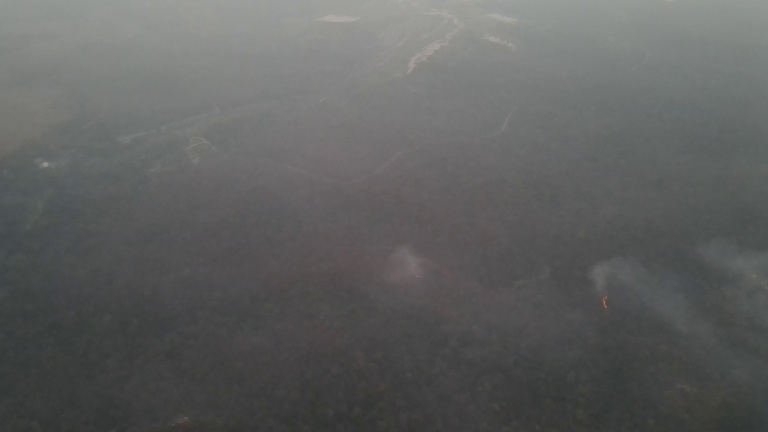fire: (596, 285, 615, 315)
smoke: (578, 231, 767, 354), (368, 235, 437, 294)
